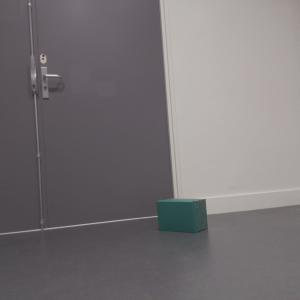small: (155, 197, 209, 234)
